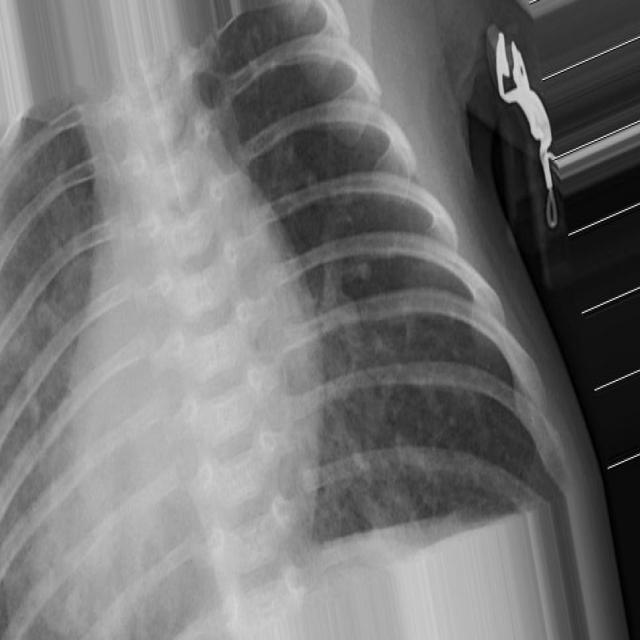bacterial_pneumonia: (1, 0, 640, 640), (0, 3, 622, 640)
